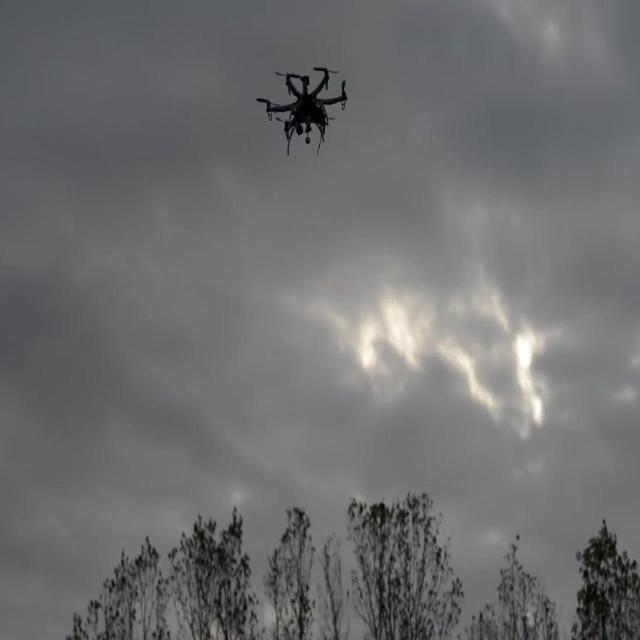UAV: (256, 66, 348, 156)
